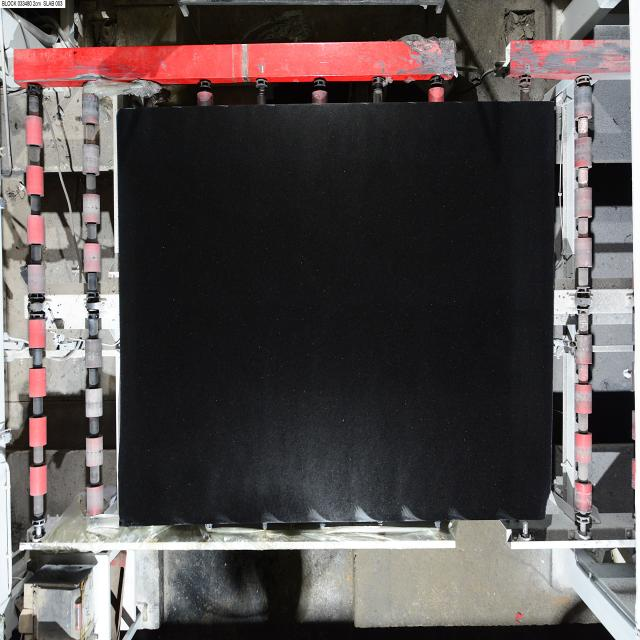chapa: (118, 103, 554, 525)
